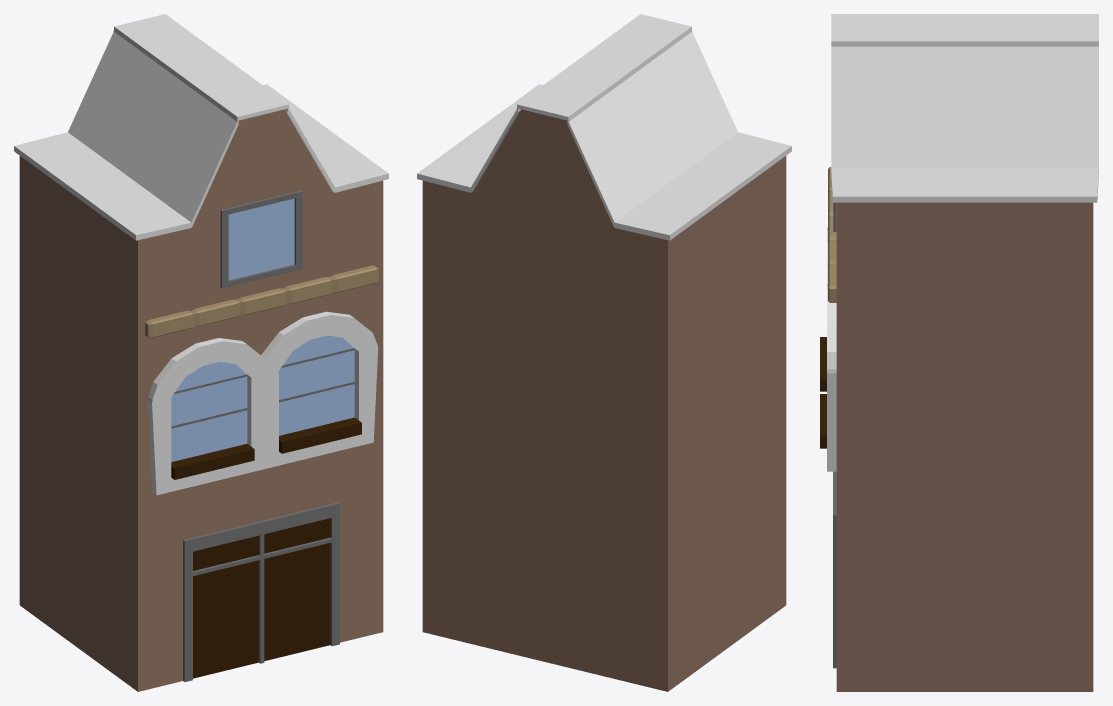
Rendered from House2Lvl2.fbx.
3 views of the same model, side by side, from view 1: azimuth 30°, elevation 25°; view 2: azimuth 150°, elevation 25°; view 3: azimuth 270°, elevation 25° (orthographic). The views are drawn at different scales.
Parts seen in each view (by area): view 1: House2Lvl2; view 2: House2Lvl2; view 3: House2Lvl2.
Boxes of the visible parts, <box> form: House2Lvl2: <box>14,14,388,691</box>; House2Lvl2: <box>417,14,791,691</box>; House2Lvl2: <box>820,14,1098,691</box>.
Size of the model in its own units: 62.79 by 131 by 55.35.
